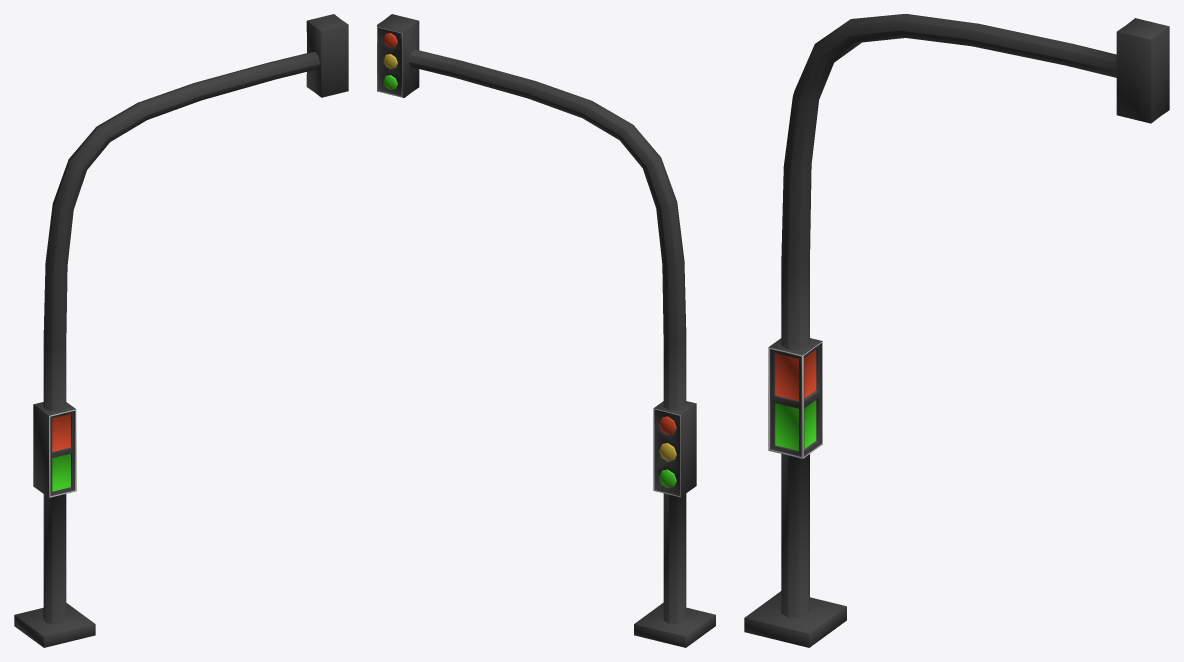
The model's file is Semáforo.fbx.
3 views of the same model, side by side, from view 1: azimuth 30°, elevation 25°; view 2: azimuth 150°, elevation 25°; view 3: azimuth 330°, elevation 25° (orthographic). The views are drawn at different scales.
Parts seen in each view (by area): view 1: Semáforo; view 2: Semáforo; view 3: Semáforo.
Boxes of the visible parts, box(x1,y1,x2,y2) form: Semáforo: box(14, 14, 348, 647); Semáforo: box(377, 14, 715, 647); Semáforo: box(744, 14, 1169, 647).
Size of the model in its own units: 699 by 1149 by 115.
